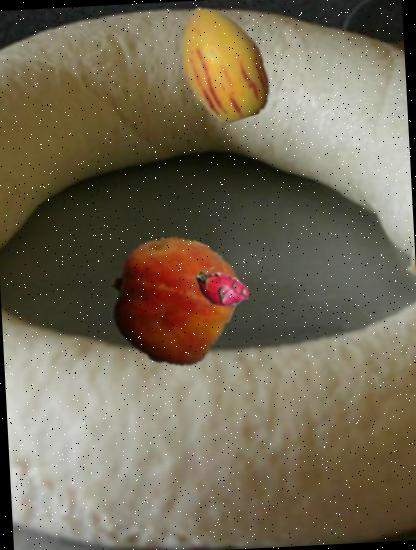Peach: (104, 232, 237, 365)
Pepino: (160, 0, 286, 125)
Pitahaya: (193, 260, 250, 317)
